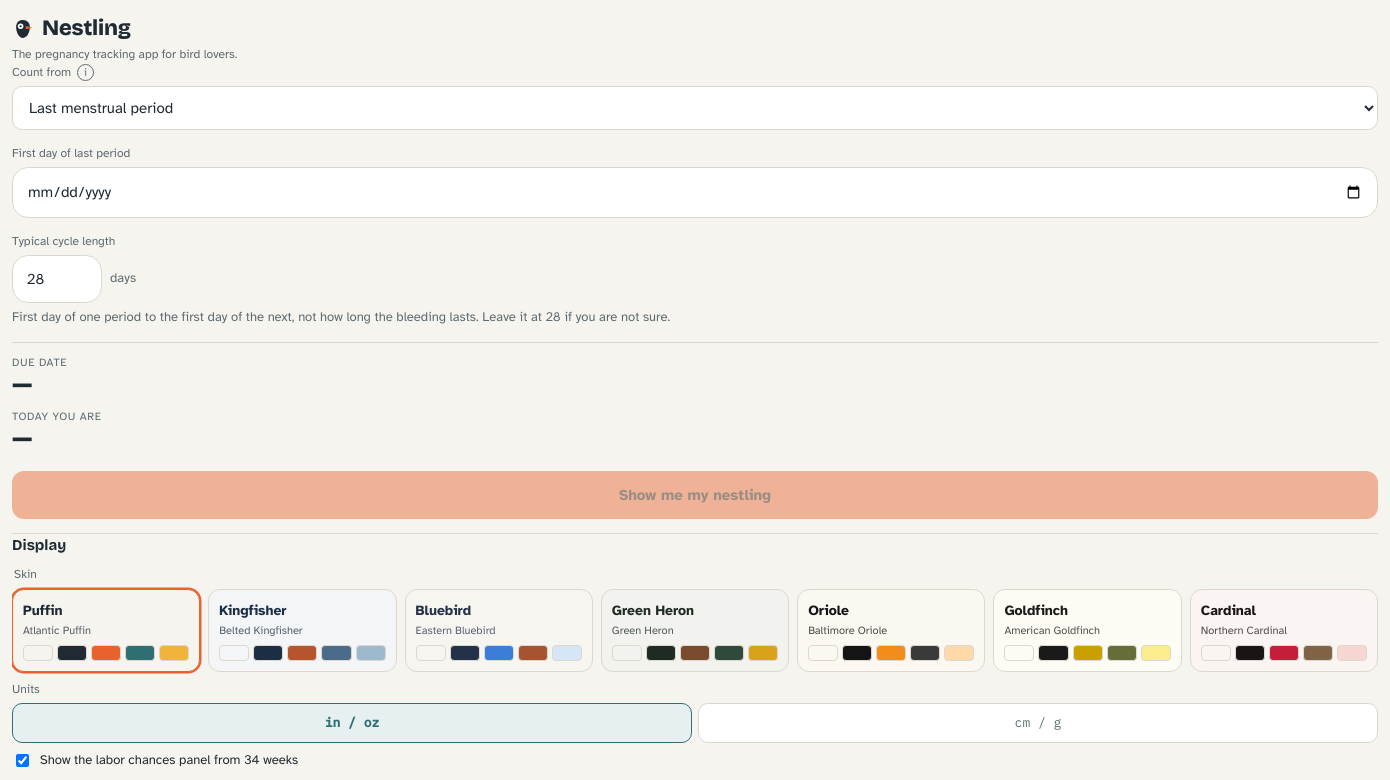
Test case: Setup screen (mockup 1) › shows the due date and progress live, on separate lines
Type "2026-03-29" into the date field labelled "First day of last period" at (695, 192), box [12,167,1378,218]
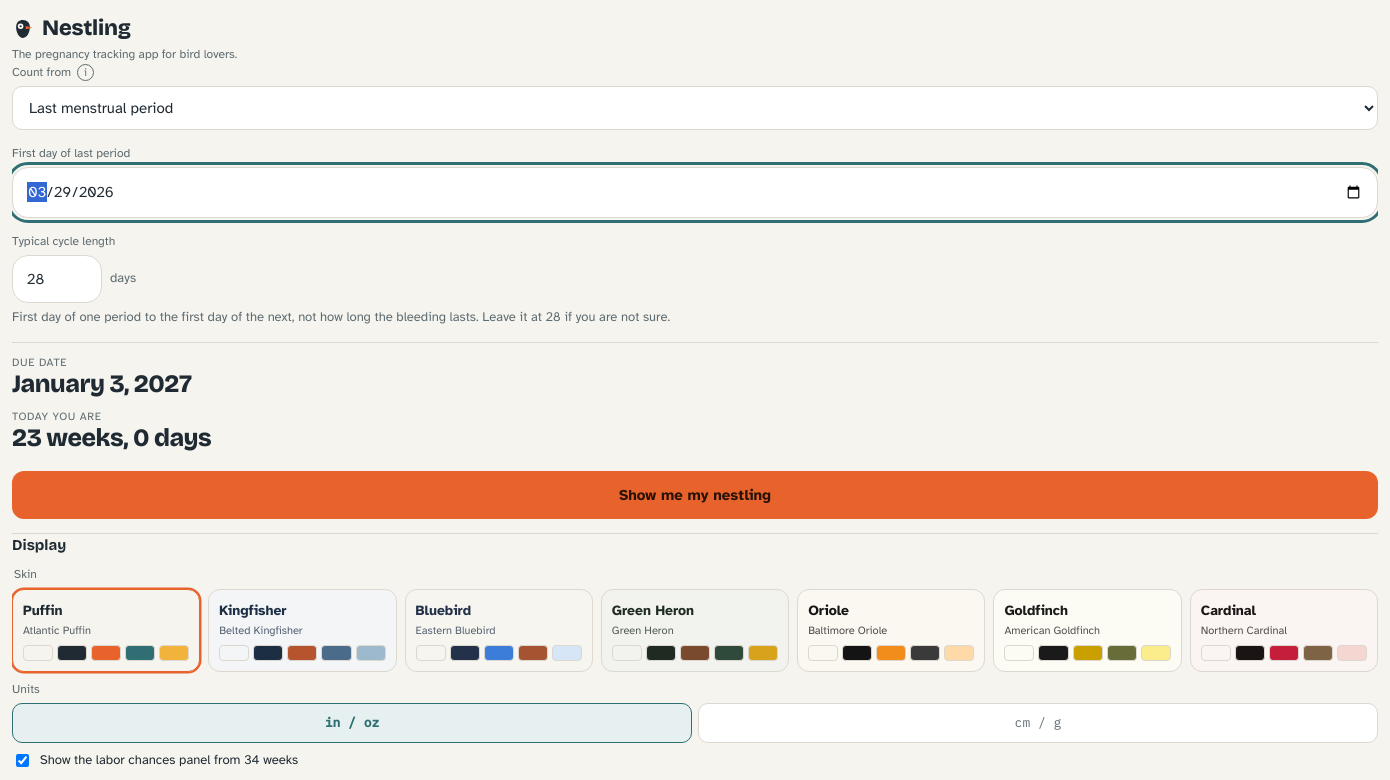
expect the text "Due date" is shown: met, box [12,356,67,368]
expect the text "January 3, 2027" is shown: met, box [12,369,191,399]
expect the text "23 weeks, 0 days" is shown: met, box [12,423,211,453]
